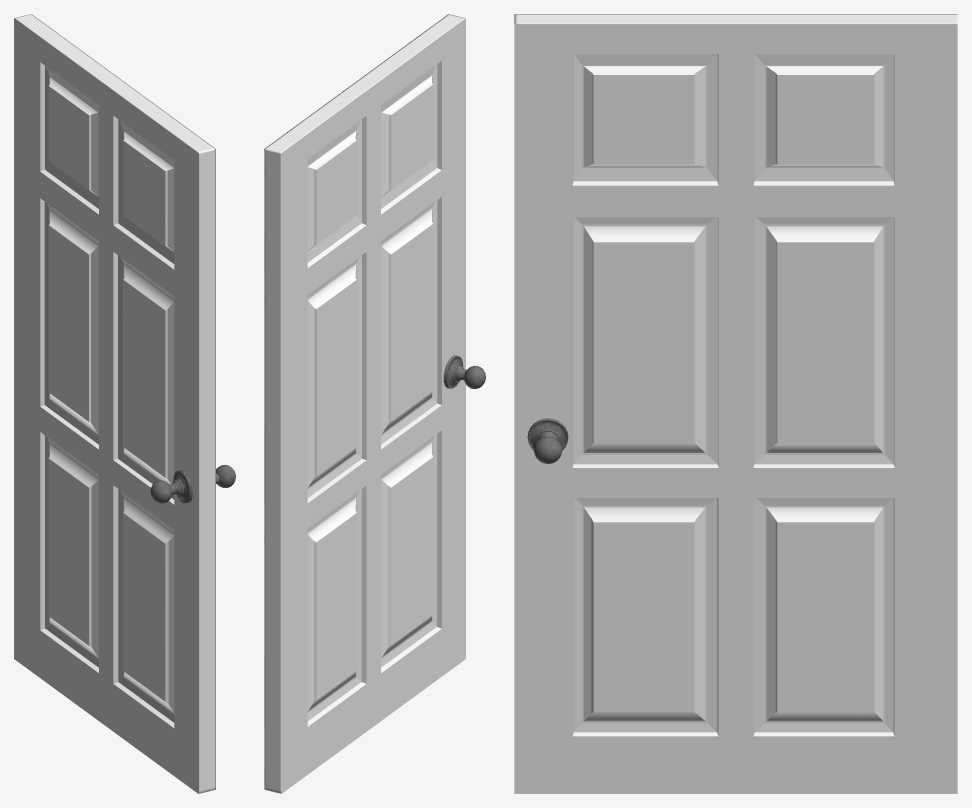
File: RoomDoor.fbx
The picture shows the model from 3 angles, left to right: view 1: azimuth 30°, elevation 25°; view 2: azimuth 150°, elevation 25°; view 3: azimuth 270°, elevation 25°; orthographic projection. The views are drawn at different scales.
Visible parts, largest first — view 1: Door_LOD0_6, Doorknob_LOD0_12, Doorknob_LOD3_12; view 2: Door_LOD0_6, Doorknob_LOD0_12, Doorknob_LOD3_12, Doorknob_LOD2_12; view 3: Door_LOD0_6, Doorknob_LOD0_11.
Boxes of the visible parts, box(x1,y1,x2,y2) form: Door_LOD0_6: box(14, 14, 215, 793); Doorknob_LOD0_12: box(150, 470, 192, 503); Doorknob_LOD3_12: box(151, 470, 192, 503); Door_LOD0_6: box(264, 14, 465, 793); Doorknob_LOD0_12: box(443, 355, 485, 388); Doorknob_LOD3_12: box(444, 355, 485, 388); Doorknob_LOD2_12: box(444, 356, 485, 388); Door_LOD0_6: box(514, 14, 957, 793); Doorknob_LOD0_11: box(528, 418, 567, 463).
Bounding box in the file's own units: 57.83 × 432 × 225.
